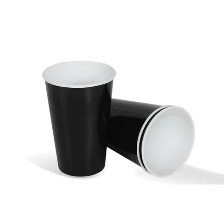paper_cup: (36, 53, 119, 180), (84, 92, 200, 180)
